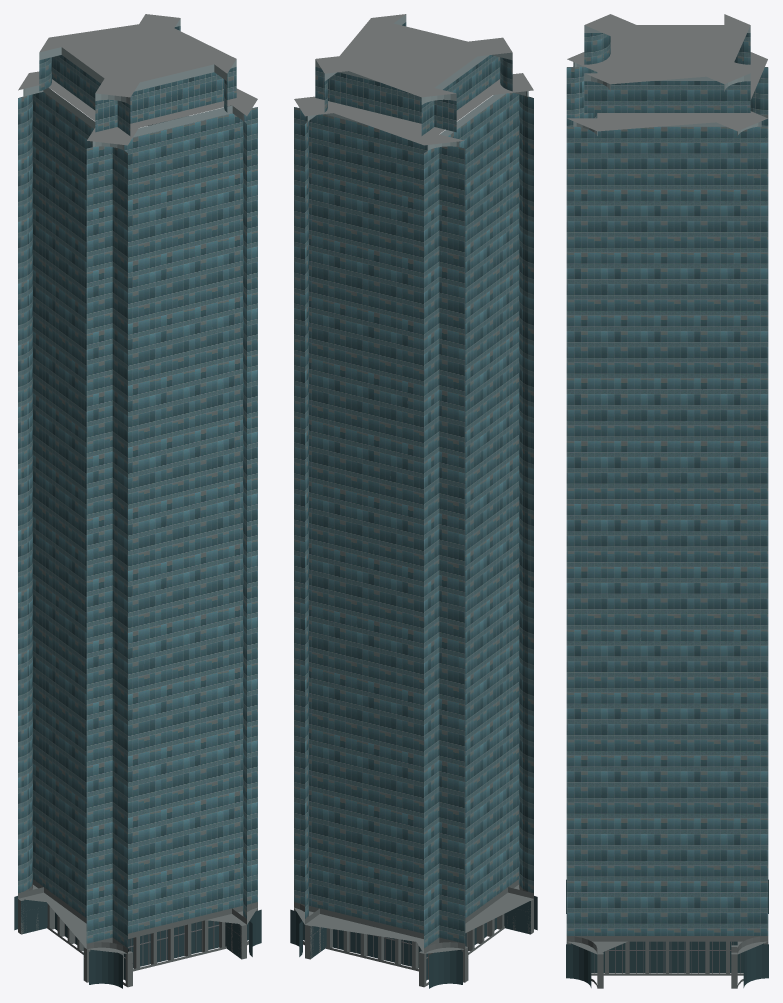
File: two_union_square.glb
The picture shows the model from 3 angles, left to right: view 1: azimuth 30°, elevation 25°; view 2: azimuth 150°, elevation 25°; view 3: azimuth 270°, elevation 25°; orthographic projection.
Parts seen in each view (by area): view 1: two_union_square; view 2: two_union_square; view 3: two_union_square.
Boxes of the visible parts, x1,y1,x2,y2 form: two_union_square: (14,14,261,988); two_union_square: (290,14,537,988); two_union_square: (566,14,768,988).
Size of the model in its own units: 46.35 by 226 by 46.35.
2 materials, 2 textured.
